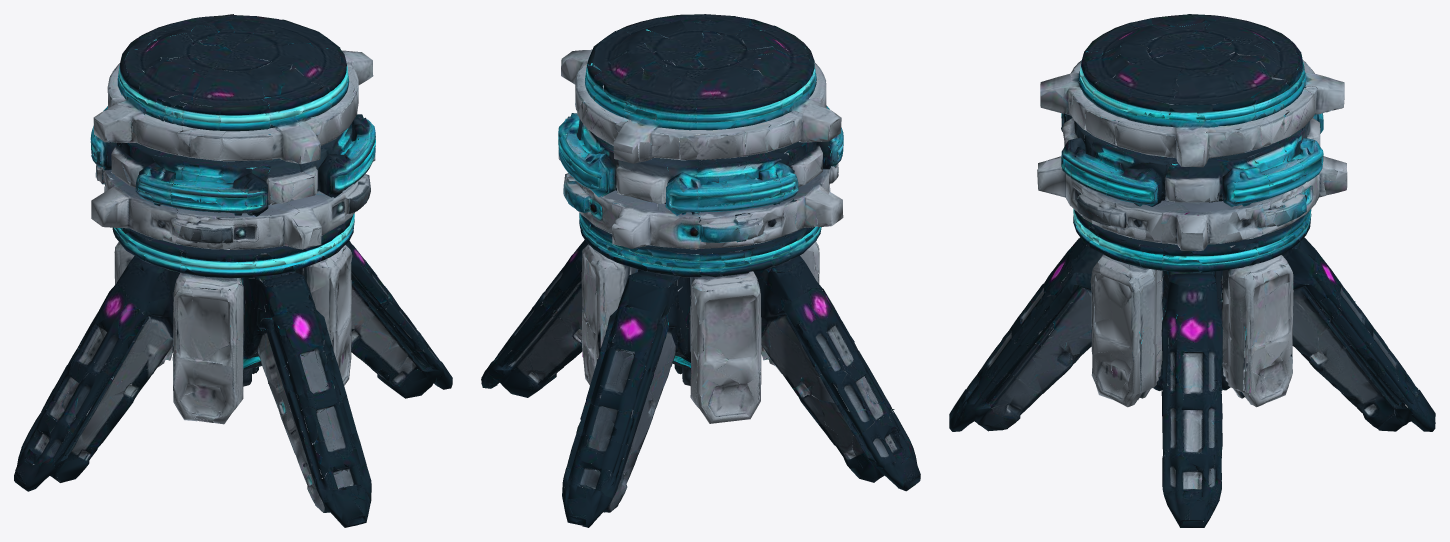
Rendered from relay.glb.
The picture shows the model from 3 angles, left to right: view 1: azimuth 30°, elevation 25°; view 2: azimuth 150°, elevation 25°; view 3: azimuth 270°, elevation 25°; orthographic projection. The views are drawn at different scales.
Parts seen in each view (by area): view 1: Mesh_0; view 2: Mesh_0; view 3: Mesh_0.
Part boxes in pixels (x1,y1,x2,y2): Mesh_0: (14,14,452,527); Mesh_0: (481,14,920,527); Mesh_0: (949,14,1435,527).
Size of the model in its own units: 1.9 by 1.64 by 1.9.
1 material, 1 textured.
